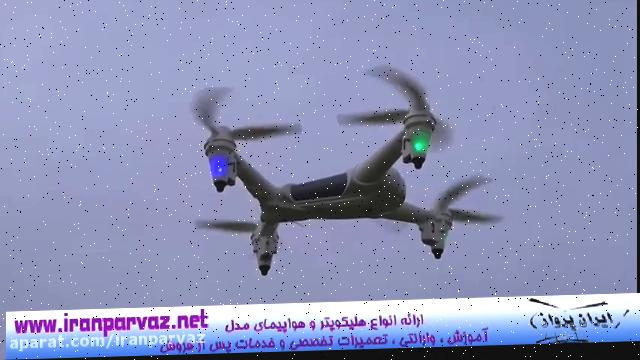drone: (183, 56, 507, 280)
